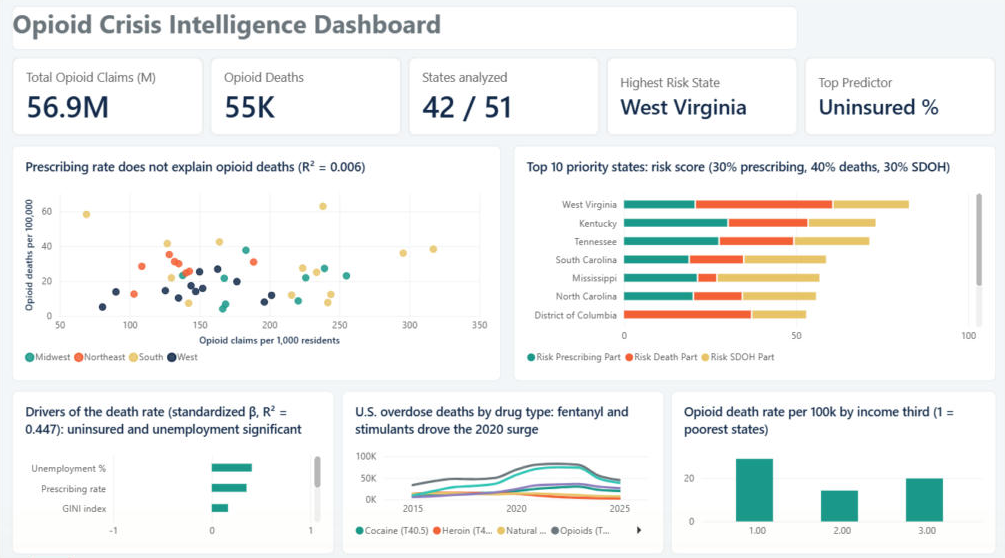

This screenshot's page, from the dashboard's own definition file:
{"tool":"powerbi","page":{"name":"Page 1","canvas":[1280,720],"ordinal":0},"visuals":[{"type":"cardVisual","fields":{"Data":["fact_state_metrics.Total Opioid Claims (M)"]},"box":[16,80,244,100],"z":0},{"type":"cardVisual","fields":{"Data":["fact_state_metrics.Opioid Deaths"]},"box":[268,80,244,100],"z":1},{"type":"cardVisual","fields":{"Data":["fact_state_metrics.States Analyzed Label"]},"box":[520,80,244,100],"z":2},{"type":"cardVisual","fields":{"Data":["fact_state_metrics.Highest Risk State"]},"box":[772,80,244,100],"z":3},{"type":"cardVisual","fields":{"Data":["fact_state_metrics.Top Predictor"]},"box":[1024,80,244,100],"z":4},{"type":"scatterChart","title":"Prescribing rate does not explain opioid deaths (R² = 0.006)","fields":{"Category":["fact_state_metrics.state_abbr"],"Series":["fact_state_metrics.region"],"X":["Sum(fact_state_metrics.rx_rate_per_1k)"],"Y":["Sum(fact_state_metrics.opioid_death_rate_per_100k)"]},"box":[16,192,622,300],"z":5},{"type":"barChart","title":"Top 10 priority states: risk score (30% prescribing, 40% deaths, 30% SDOH)","fields":{"Category":["fact_state_metrics.state_name"],"Y":["fact_state_metrics.Risk Prescribing Part","fact_state_metrics.Risk Death Part","fact_state_metrics.Risk SDOH Part"]},"box":[654,192,614,300],"z":6},{"type":"clusteredBarChart","title":"Drivers of the death rate (standardized β, R² = 0.447): uninsured and unemployment significant","fields":{"Category":["model_coefficients.label"],"Y":["Sum(model_coefficients.beta)"]},"box":[16,504,410,208],"z":7},{"type":"lineChart","title":"U.S. overdose deaths by drug type: fentanyl and stimulants drove the 2020 surge","fields":{"Category":["fact_drug_trend.year"],"Series":["fact_drug_trend.indicator"],"Y":["fact_state_metrics.Deaths (Trend)"]},"box":[435,504,410,208],"z":8},{"type":"clusteredColumnChart","title":"Opioid death rate per 100k by income third (1 = poorest states)","fields":{"Category":["fact_state_metrics.income_tertile"],"Y":["fact_state_metrics.Opioid Death Rate per 100k"]},"box":[854,504,414,208],"z":9},{"type":"textbox","box":[16,14,1000,56],"z":10}]}

Visuals, with their boxes in screenshot pixels (x1, y1, x2, y2), scaled from the page's 1280x720 canvas onto the 1005x558 screenshot:
cardVisual - fact_state_metrics.Total Opioid Claims (M): Rect(13, 62, 204, 140)
cardVisual - fact_state_metrics.Opioid Deaths: Rect(210, 62, 402, 140)
cardVisual - fact_state_metrics.States Analyzed Label: Rect(408, 62, 600, 140)
cardVisual - fact_state_metrics.Highest Risk State: Rect(606, 62, 798, 140)
cardVisual - fact_state_metrics.Top Predictor: Rect(804, 62, 996, 140)
"Prescribing rate does not explain opioid deaths (R² = 0.006)" scatterChart: Rect(13, 149, 501, 381)
"Top 10 priority states: risk score (30% prescribing, 40% deaths, 30% SDOH)" barChart: Rect(513, 149, 996, 381)
"Drivers of the death rate (standardized β, R² = 0.447): uninsured and unemployment significant" clusteredBarChart: Rect(13, 391, 334, 552)
"U.S. overdose deaths by drug type: fentanyl and stimulants drove the 2020 surge" lineChart: Rect(342, 391, 663, 552)
"Opioid death rate per 100k by income third (1 = poorest states)" clusteredColumnChart: Rect(671, 391, 996, 552)
textbox: Rect(13, 11, 798, 54)
